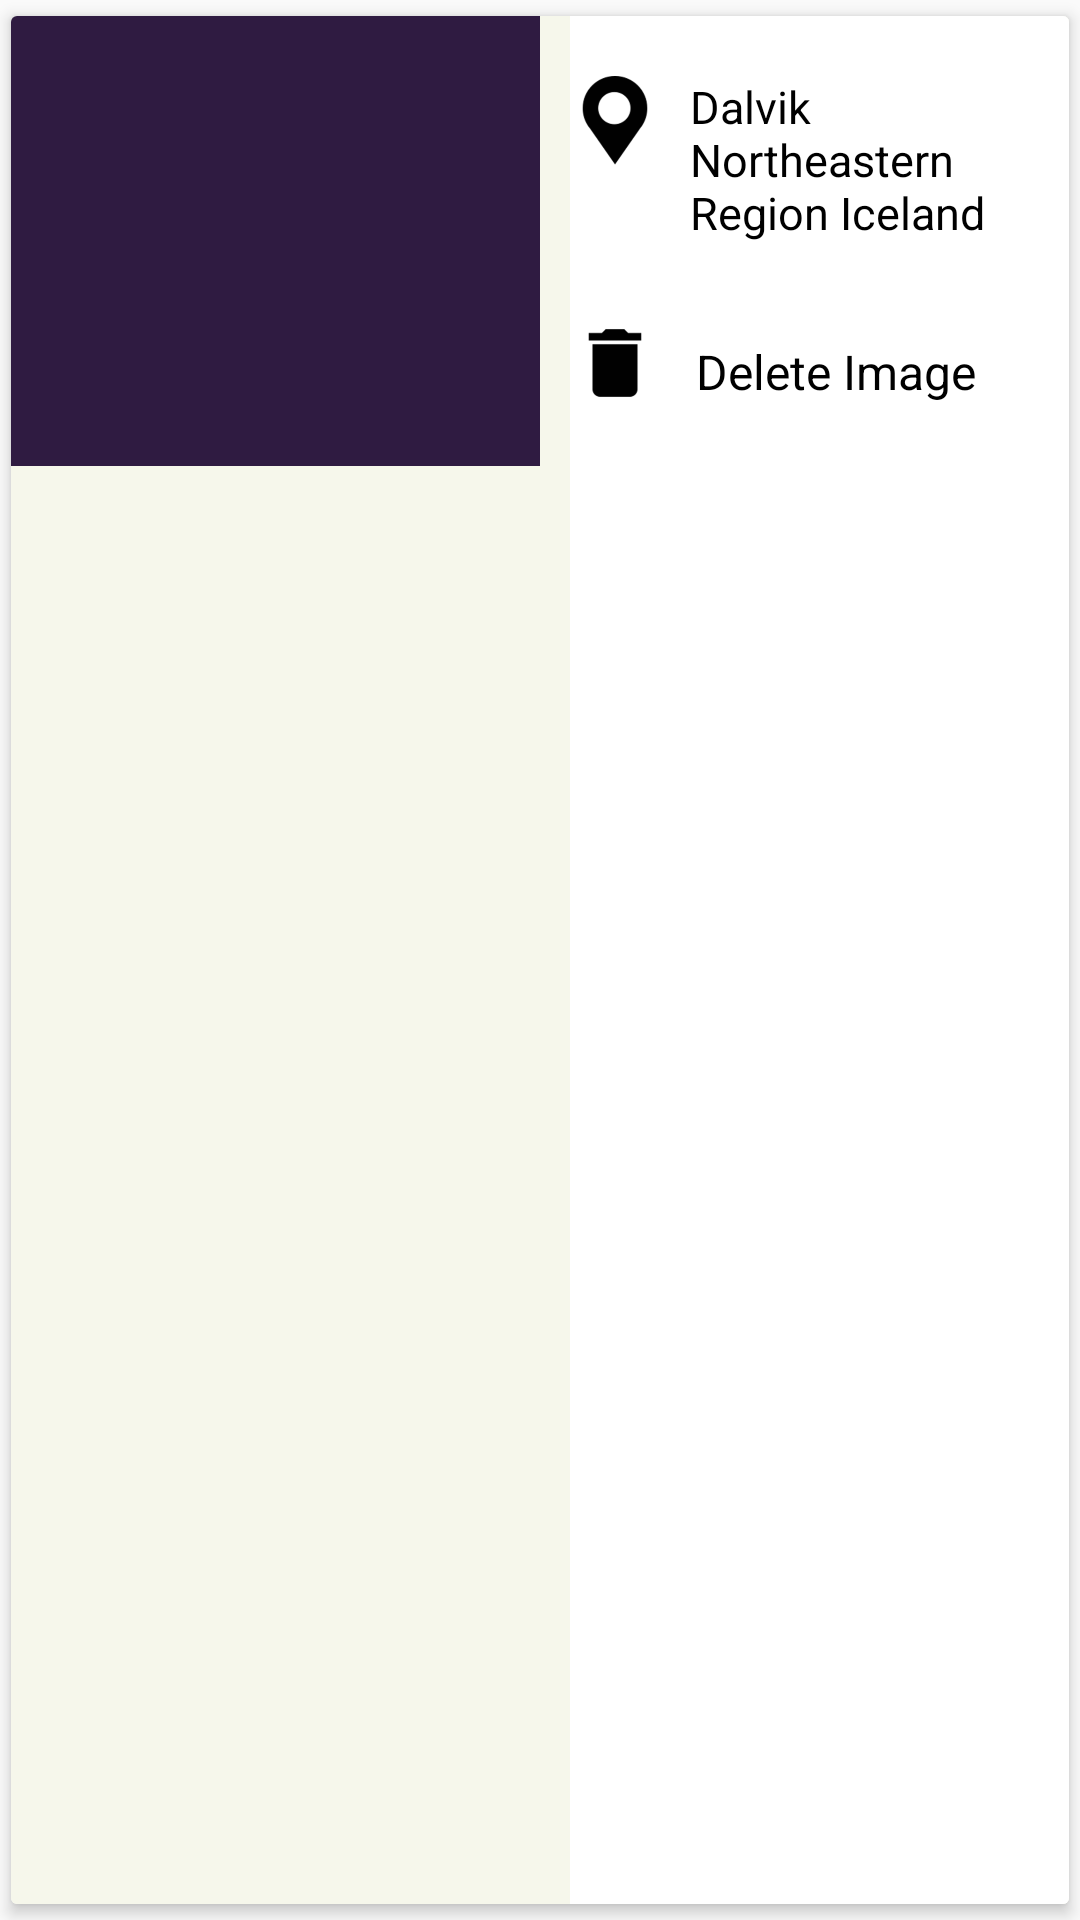

Screen size 1080 x 1920. Icon name, then its box in pixels as bbox=[x1, y1, x2, y2]:
location: bbox=[582, 76, 648, 165]
